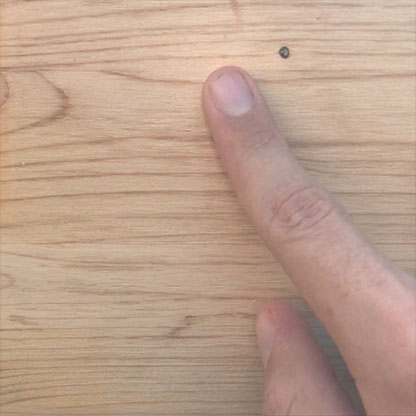fingertip: (197, 63, 275, 126)
